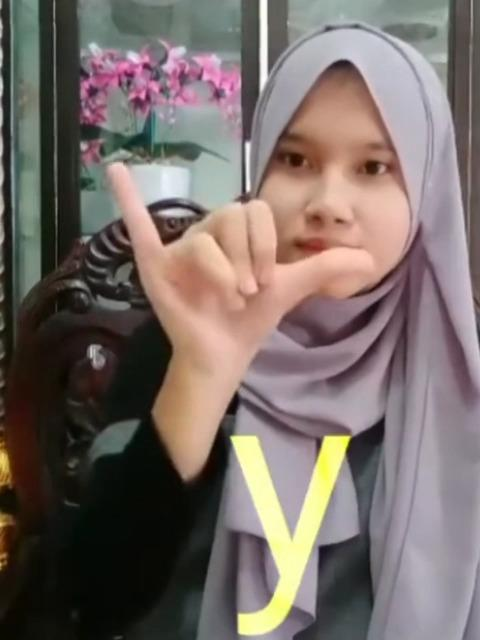Y: (103, 154, 382, 358)
